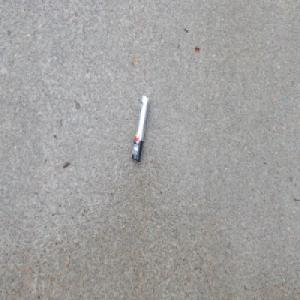Battery: (131, 92, 150, 164)
